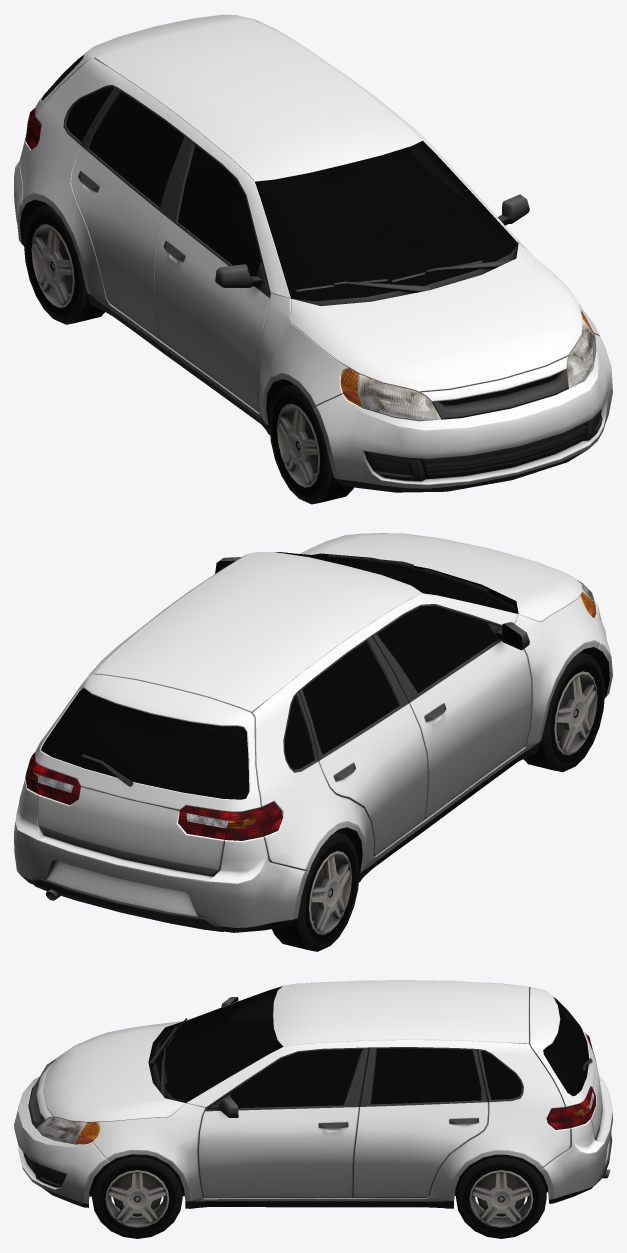
File: voiture_rallye.glb
3 views of the same model, one above another, from view 1: azimuth 30°, elevation 25°; view 2: azimuth 150°, elevation 25°; view 3: azimuth 270°, elevation 25° (orthographic). The views are drawn at different scales.
Visible parts, largest first — view 1: body, wheel_fr, wheel_rr; view 2: body, wheel_rr, wheel_fr; view 3: body, wheel_fl, wheel_rl.
Boxes of the visible parts, <box> form: body: <box>14,14,612,492</box>; wheel_fr: <box>269,384,354,504</box>; wheel_rr: <box>24,205,104,324</box>; body: <box>14,533,612,932</box>; wheel_rr: <box>272,832,359,951</box>; wheel_fr: <box>523,652,604,772</box>; body: <box>14,980,612,1208</box>; wheel_fl: <box>92,1154,182,1238</box>; wheel_rl: <box>456,1154,546,1238</box>.
Size of the model in its own units: 1.85 by 1.44 by 4.2.
Materials: 4 (3 with a texture image).
